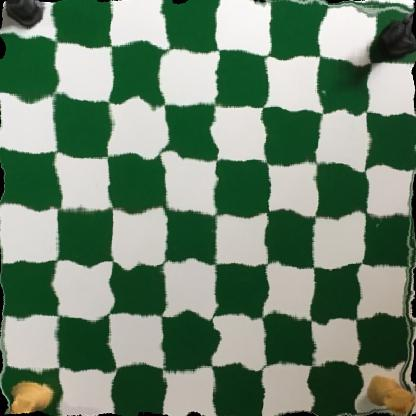black-rook: (376, 6, 416, 62), (0, 0, 51, 34)
white-rook: (1, 373, 58, 416), (366, 367, 412, 416)
